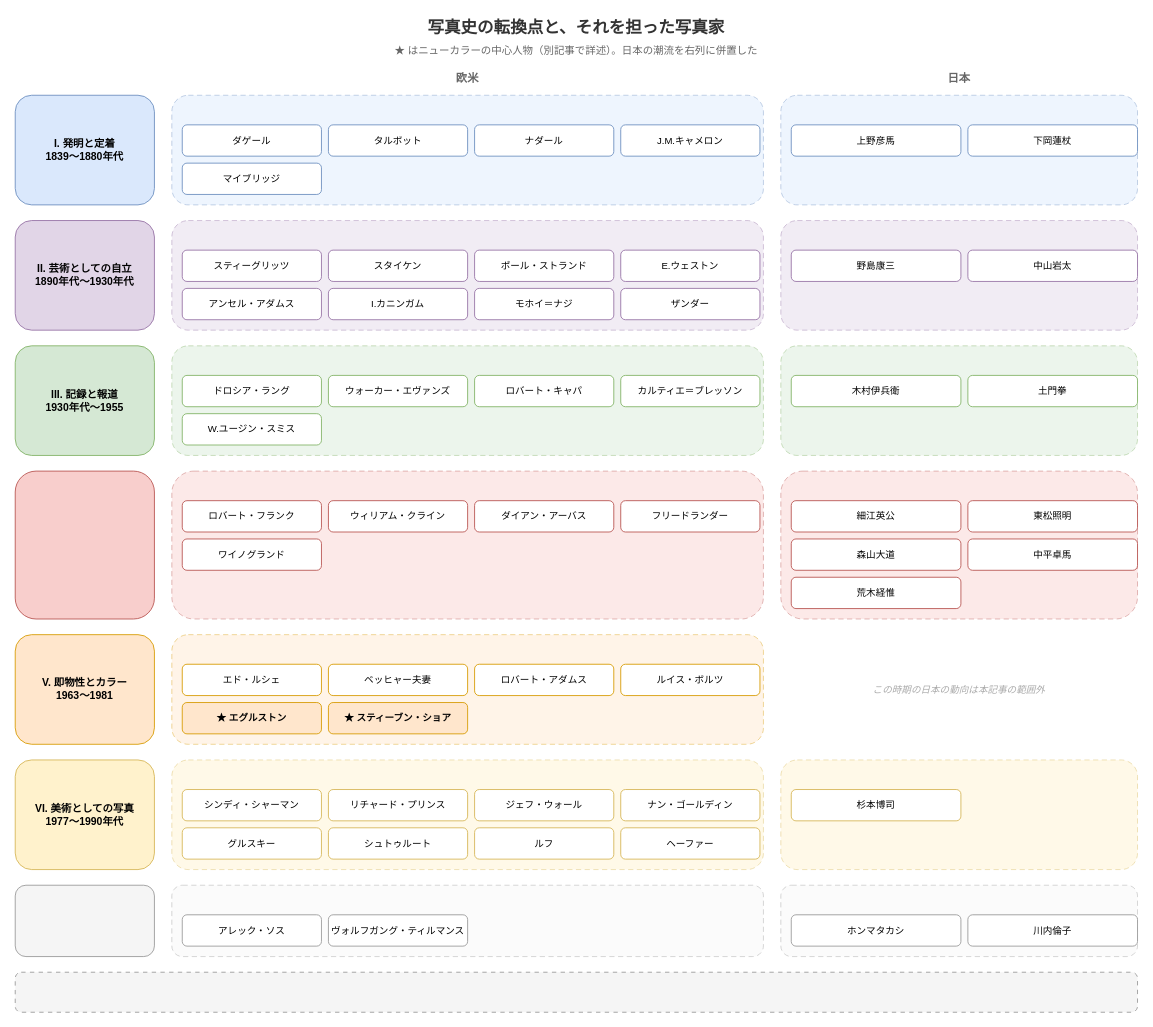
Image size: 1153x1027. Some labels were removed from this diagram. Each missing label, with the centre of its shape:
"IV. 主観への転回 1958〜1970年代" goes at [84,544].
"VII. 脱物質化 1990〜現在" goes at [84,920].
"各時代の「転換点」が何だったかは別記事の3軸マトリクスを参照。この図は、その転換点を実際に担った人物の配置図にあたる。" goes at [576,991].
